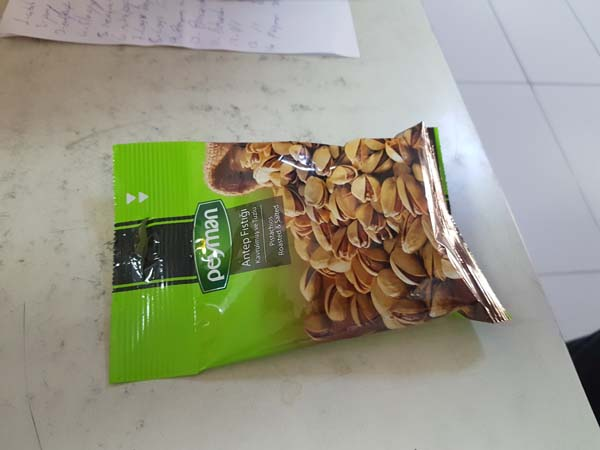antepfistigi: (97, 117, 515, 391)
